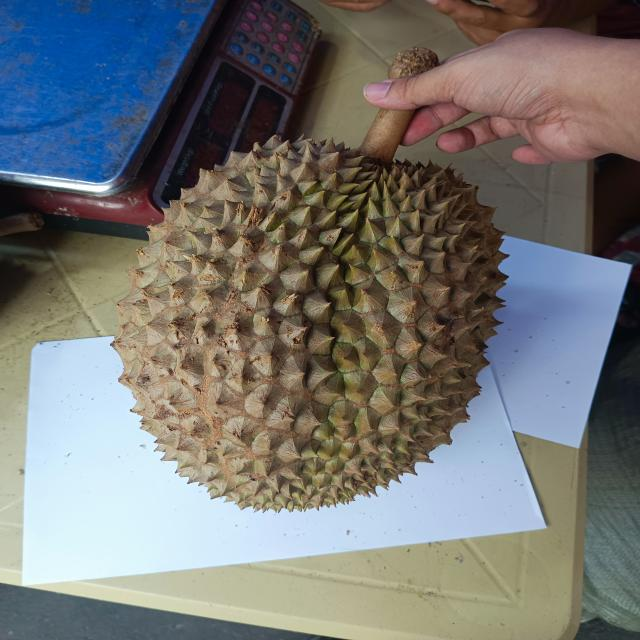mature: (112, 129, 510, 509)
